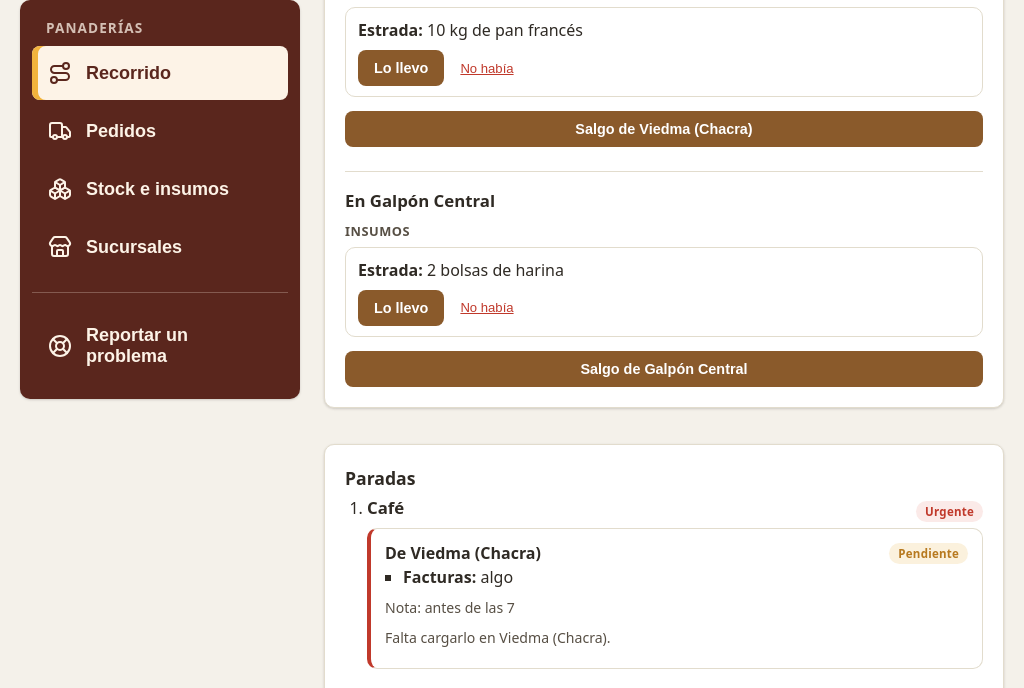
Test: Recorrido del chofer › dice "1 pedido" en singular
This screenshot has width=1024, height=688.
(page scrolled)
What coordinates should you click on to do the following:
click the button "Salgo de Galpón Central"
I would click on:
 (664, 369)
Its box is [345,351,983,387].
(page scrolled)
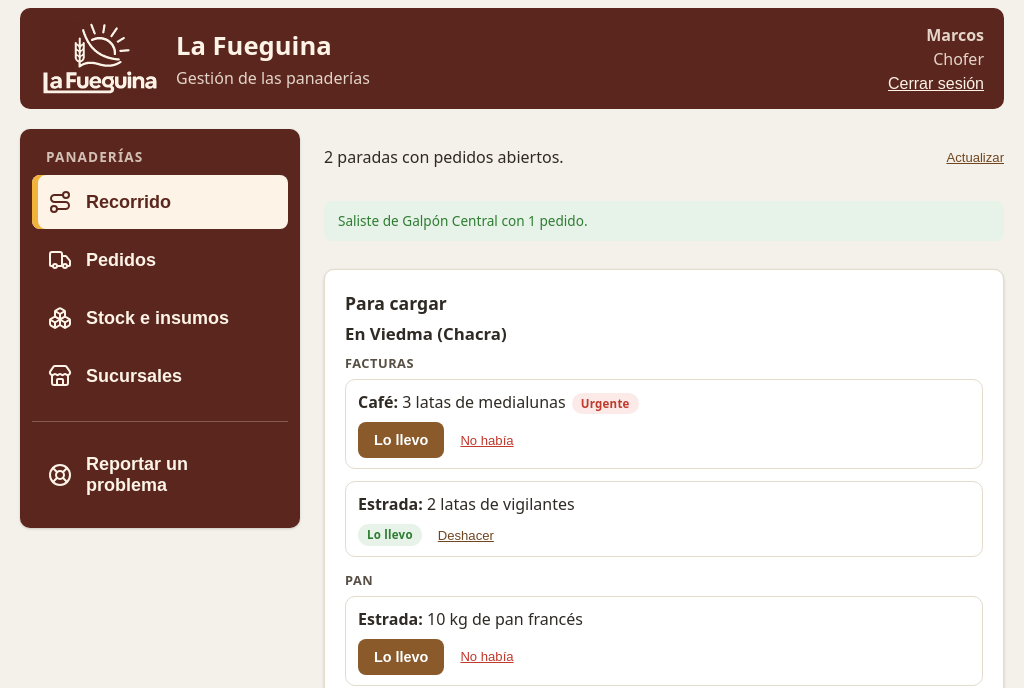
Now the message reads "Saliste de Galpón Central con 1 pedido.", box [338,211,588,230]
